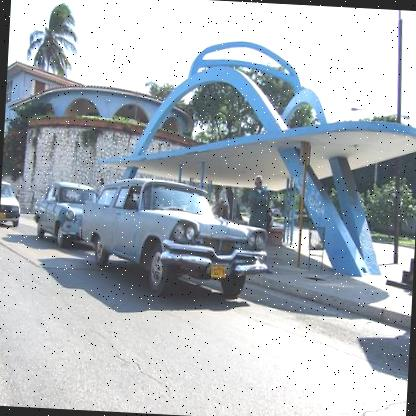car: (76, 175, 276, 302), (28, 178, 100, 252)
person: (242, 172, 276, 235)
